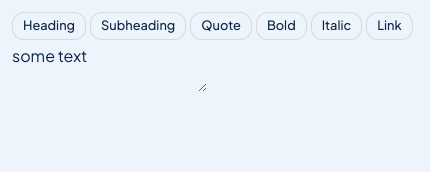
Scenario: formats the textarea selection and restores focus
Step 1. Click the button "Bold" → [281, 26], box [256,12,307,40]
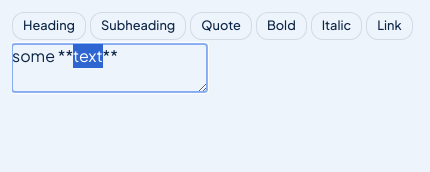
Now the text box holds "some **text**", box [12,44,207,92]
